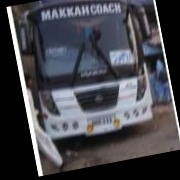bus: (14, 0, 167, 147)
